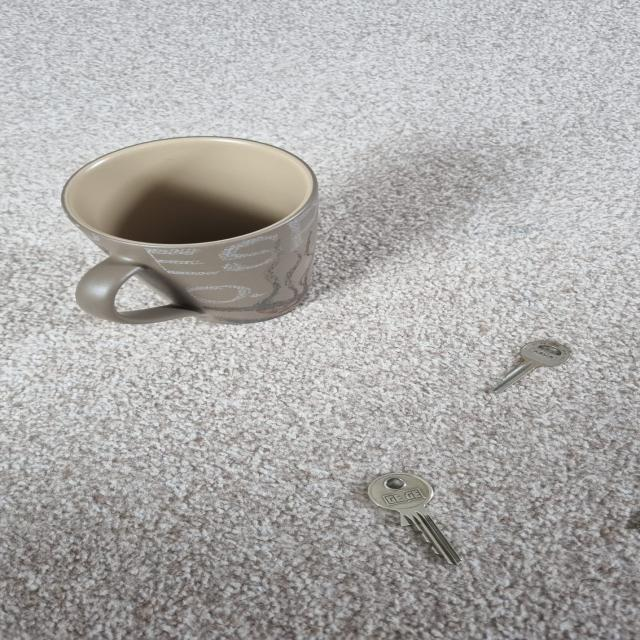Cup: (60, 138, 319, 327)
Key: (358, 472, 461, 570), (489, 339, 577, 394)
